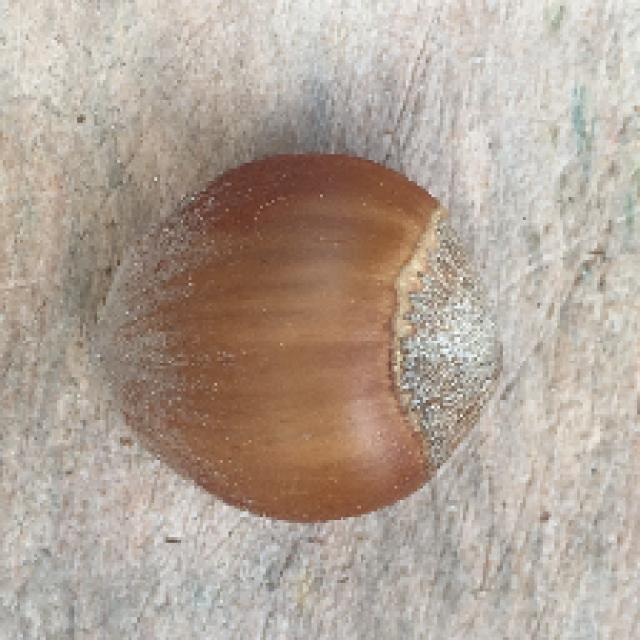qualityHazelnut: (86, 152, 508, 526)
